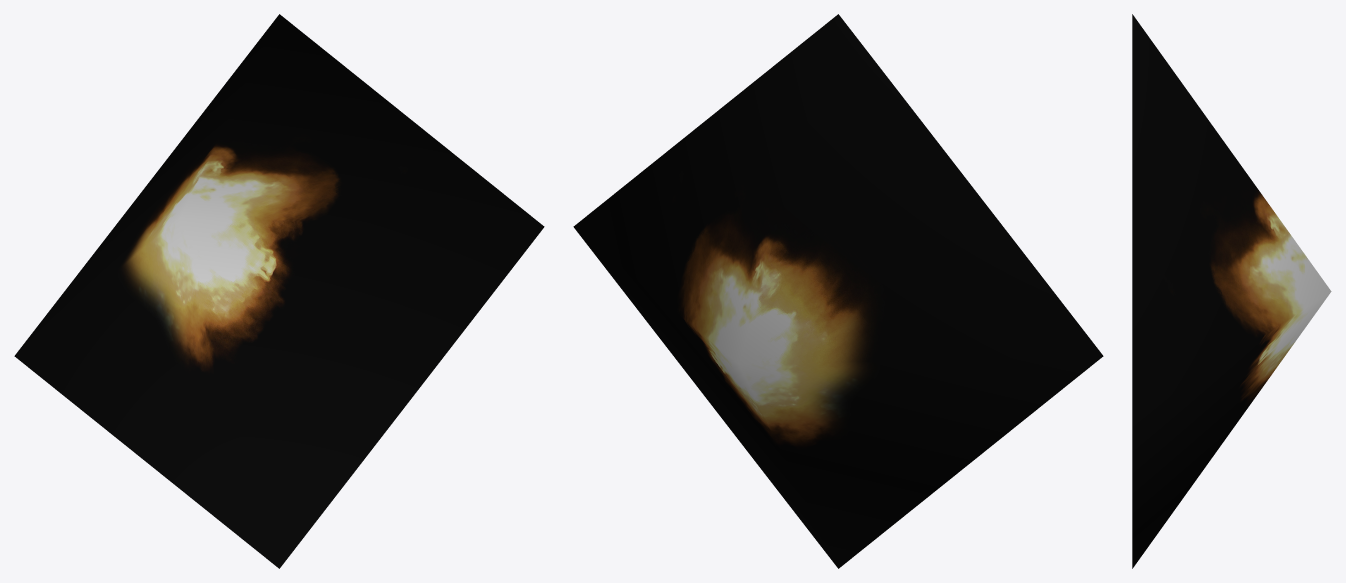
The model's file is MuzzleFlash.fbx.
3 views of the same model, side by side, from view 1: azimuth 30°, elevation 25°; view 2: azimuth 150°, elevation 25°; view 3: azimuth 270°, elevation 25° (orthographic).
Parts seen in each view (by area): view 1: muzzle_flash; view 2: muzzle_flash; view 3: muzzle_flash.
Part boxes in pixels (x1,y1,x2,y2): muzzle_flash: (14,14,544,568); muzzle_flash: (573,14,1103,568); muzzle_flash: (1132,14,1331,568).
Size of the model in its own units: 22.88 by 22.88 by 7.44.
